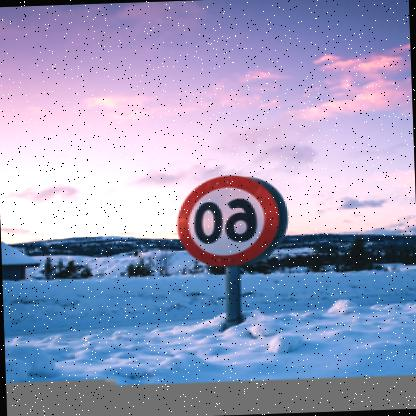speedlimit: (180, 169, 294, 264)
